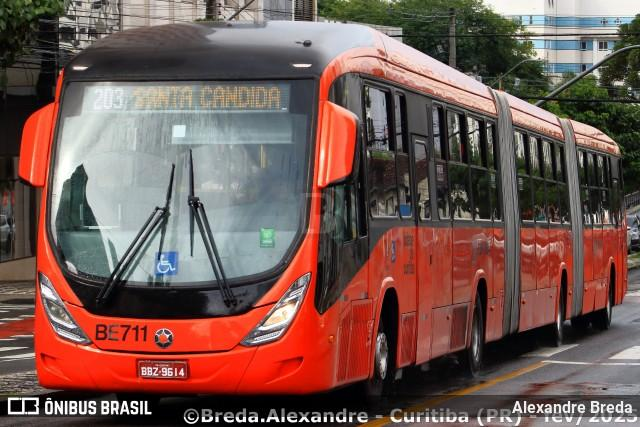SANTA CANDIDA: (130, 84, 283, 113)
